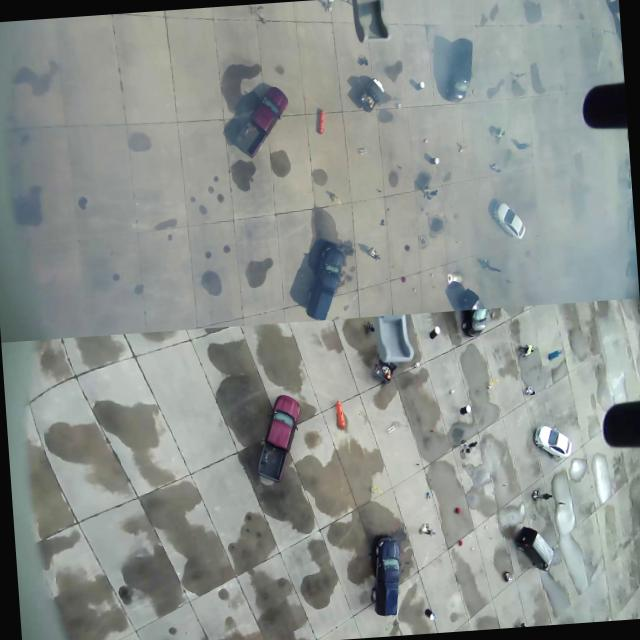car: (253, 389, 307, 495), (228, 76, 290, 165), (304, 240, 356, 328), (360, 534, 408, 620), (442, 20, 478, 106), (518, 522, 563, 588), (482, 194, 530, 249), (458, 283, 492, 341), (532, 422, 572, 458)
